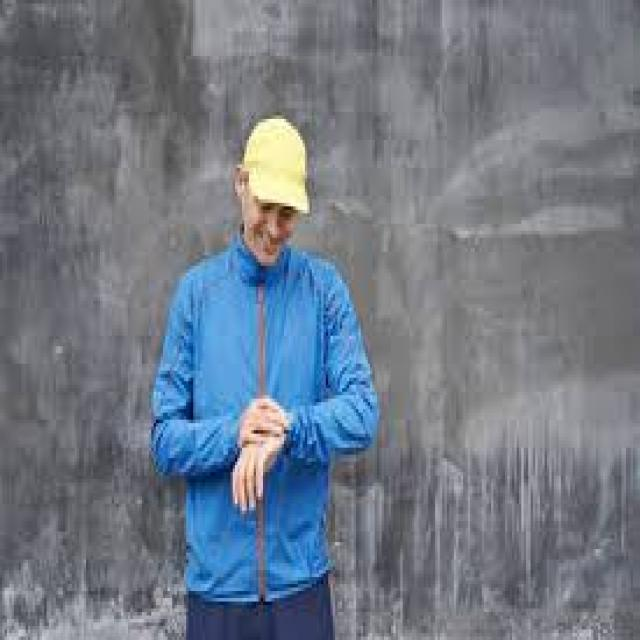cap: (235, 115, 310, 262)
